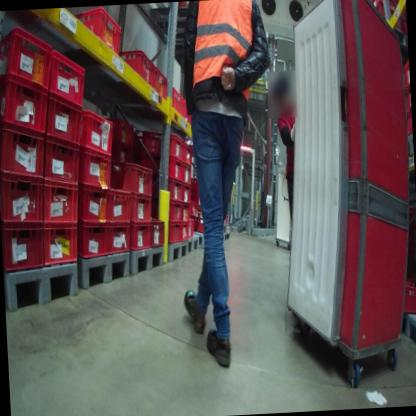pallet: (3, 258, 82, 315), (72, 249, 131, 292), (129, 240, 164, 275), (401, 310, 416, 346), (183, 231, 202, 259), (165, 241, 187, 263), (194, 226, 212, 244), (405, 132, 413, 156)
small_load_carrier: (0, 25, 55, 92), (71, 6, 128, 69), (0, 72, 51, 141), (37, 47, 87, 112), (0, 117, 46, 185), (40, 85, 84, 144), (40, 214, 85, 269), (0, 170, 46, 223), (40, 172, 80, 232), (1, 219, 46, 272), (39, 131, 81, 185), (117, 40, 157, 94), (80, 106, 120, 158), (76, 143, 114, 192), (113, 159, 154, 203), (75, 186, 114, 231), (137, 127, 183, 164), (138, 145, 182, 183), (76, 218, 111, 259), (110, 141, 146, 175), (106, 183, 134, 226), (149, 63, 177, 105), (106, 111, 135, 148), (106, 217, 134, 254), (128, 187, 153, 223), (376, 2, 404, 33), (397, 275, 416, 317), (159, 194, 182, 224), (128, 220, 151, 250), (167, 88, 189, 119), (371, 0, 404, 20), (161, 175, 184, 202), (149, 219, 167, 249), (166, 223, 183, 246), (180, 217, 193, 241), (180, 185, 195, 204), (183, 160, 194, 185), (182, 143, 197, 160), (405, 107, 412, 134), (181, 203, 192, 218), (404, 57, 410, 84), (405, 85, 411, 111), (364, 0, 371, 2)
